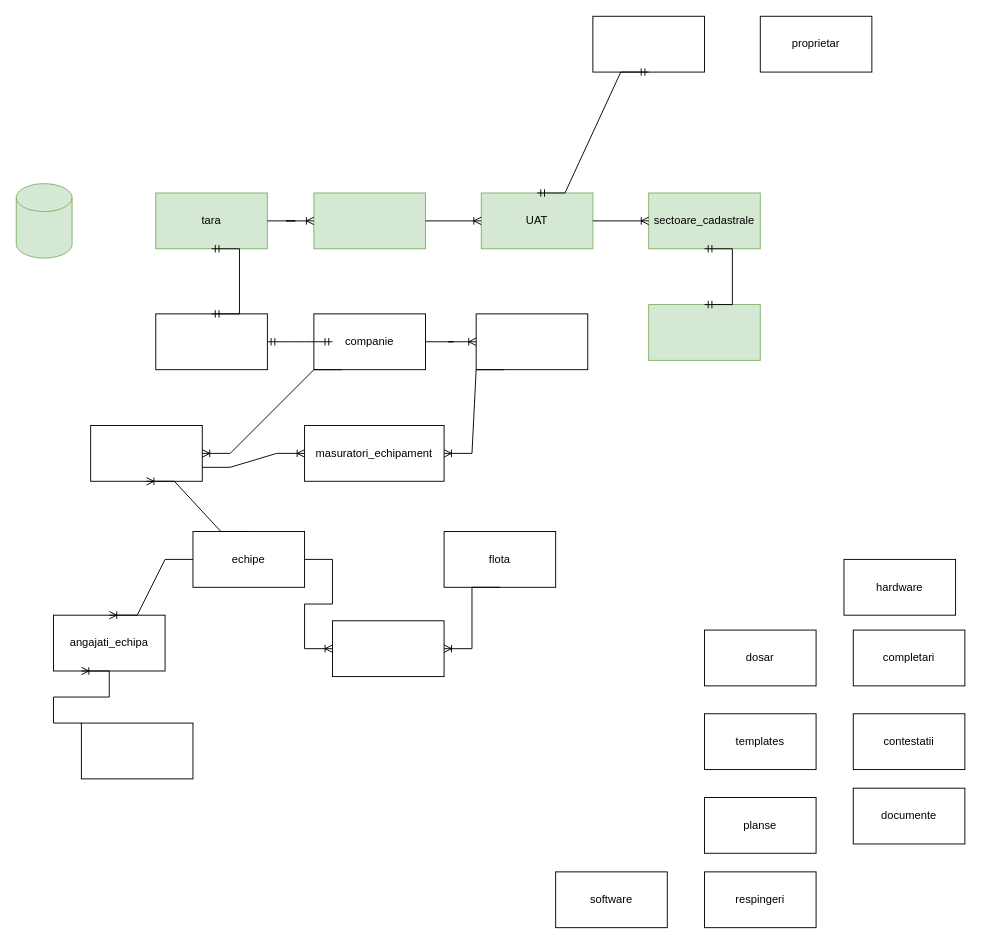
Image size: 981x944. Some labels were removed from this diagram. Here are the shapes that lost their labels. From the top down, the centre of each, then its label:
At (x=648, y=43): "primarie".
At (x=43, y=220): "Lucrari cadastru GIS".
At (x=369, y=220): "judet".
At (x=211, y=341): "ANAF".
At (x=531, y=341): "echipament".
At (x=704, y=332): "retea_sprijin".
At (x=146, y=453): "masuratori".
At (x=388, y=648): "echipa_flota".
At (x=136, y=750): "angajati".
